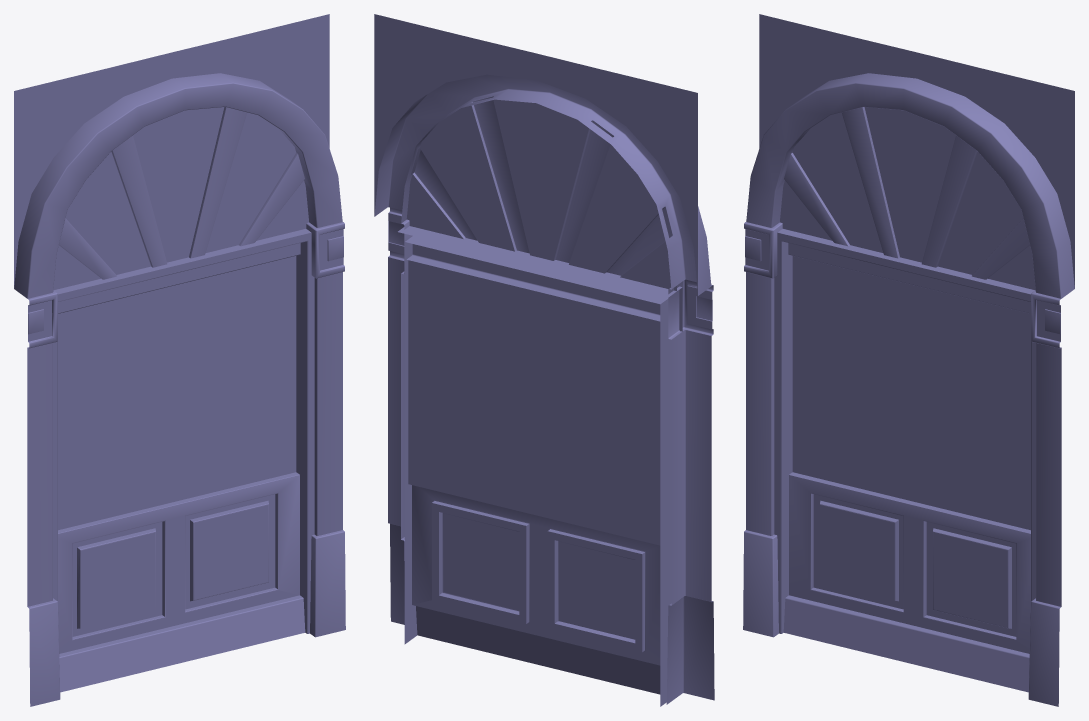
The model's file is M_A_window_03.fbx.
The picture shows the model from 3 angles, left to right: view 1: azimuth 30°, elevation 25°; view 2: azimuth 150°, elevation 25°; view 3: azimuth 330°, elevation 25°; orthographic projection. The views are drawn at different scales.
Parts seen in each view (by area): view 1: M_A_window_03; view 2: M_A_window_03; view 3: M_A_window_03.
Part boxes in pixels (x1,y1,x2,y2): M_A_window_03: (14, 14, 345, 706); M_A_window_03: (374, 14, 714, 706); M_A_window_03: (743, 14, 1074, 706).
Bounding box in the file's own units: 200 × 366 × 21.53.
